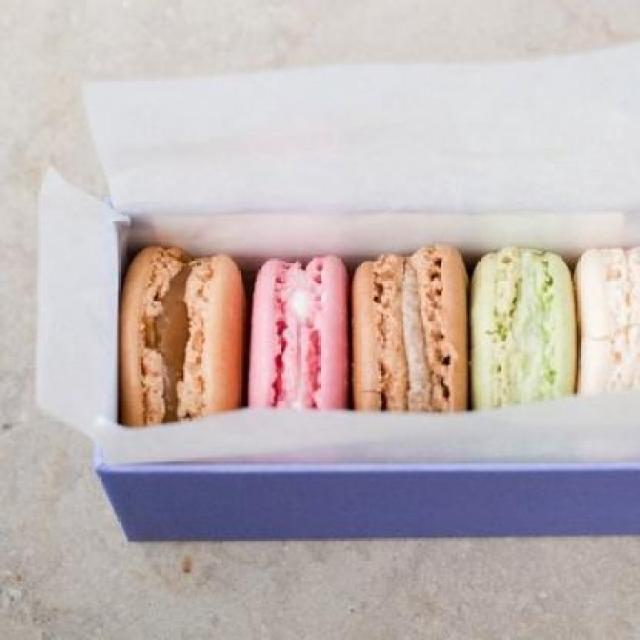Macaron: (122, 228, 640, 442)
